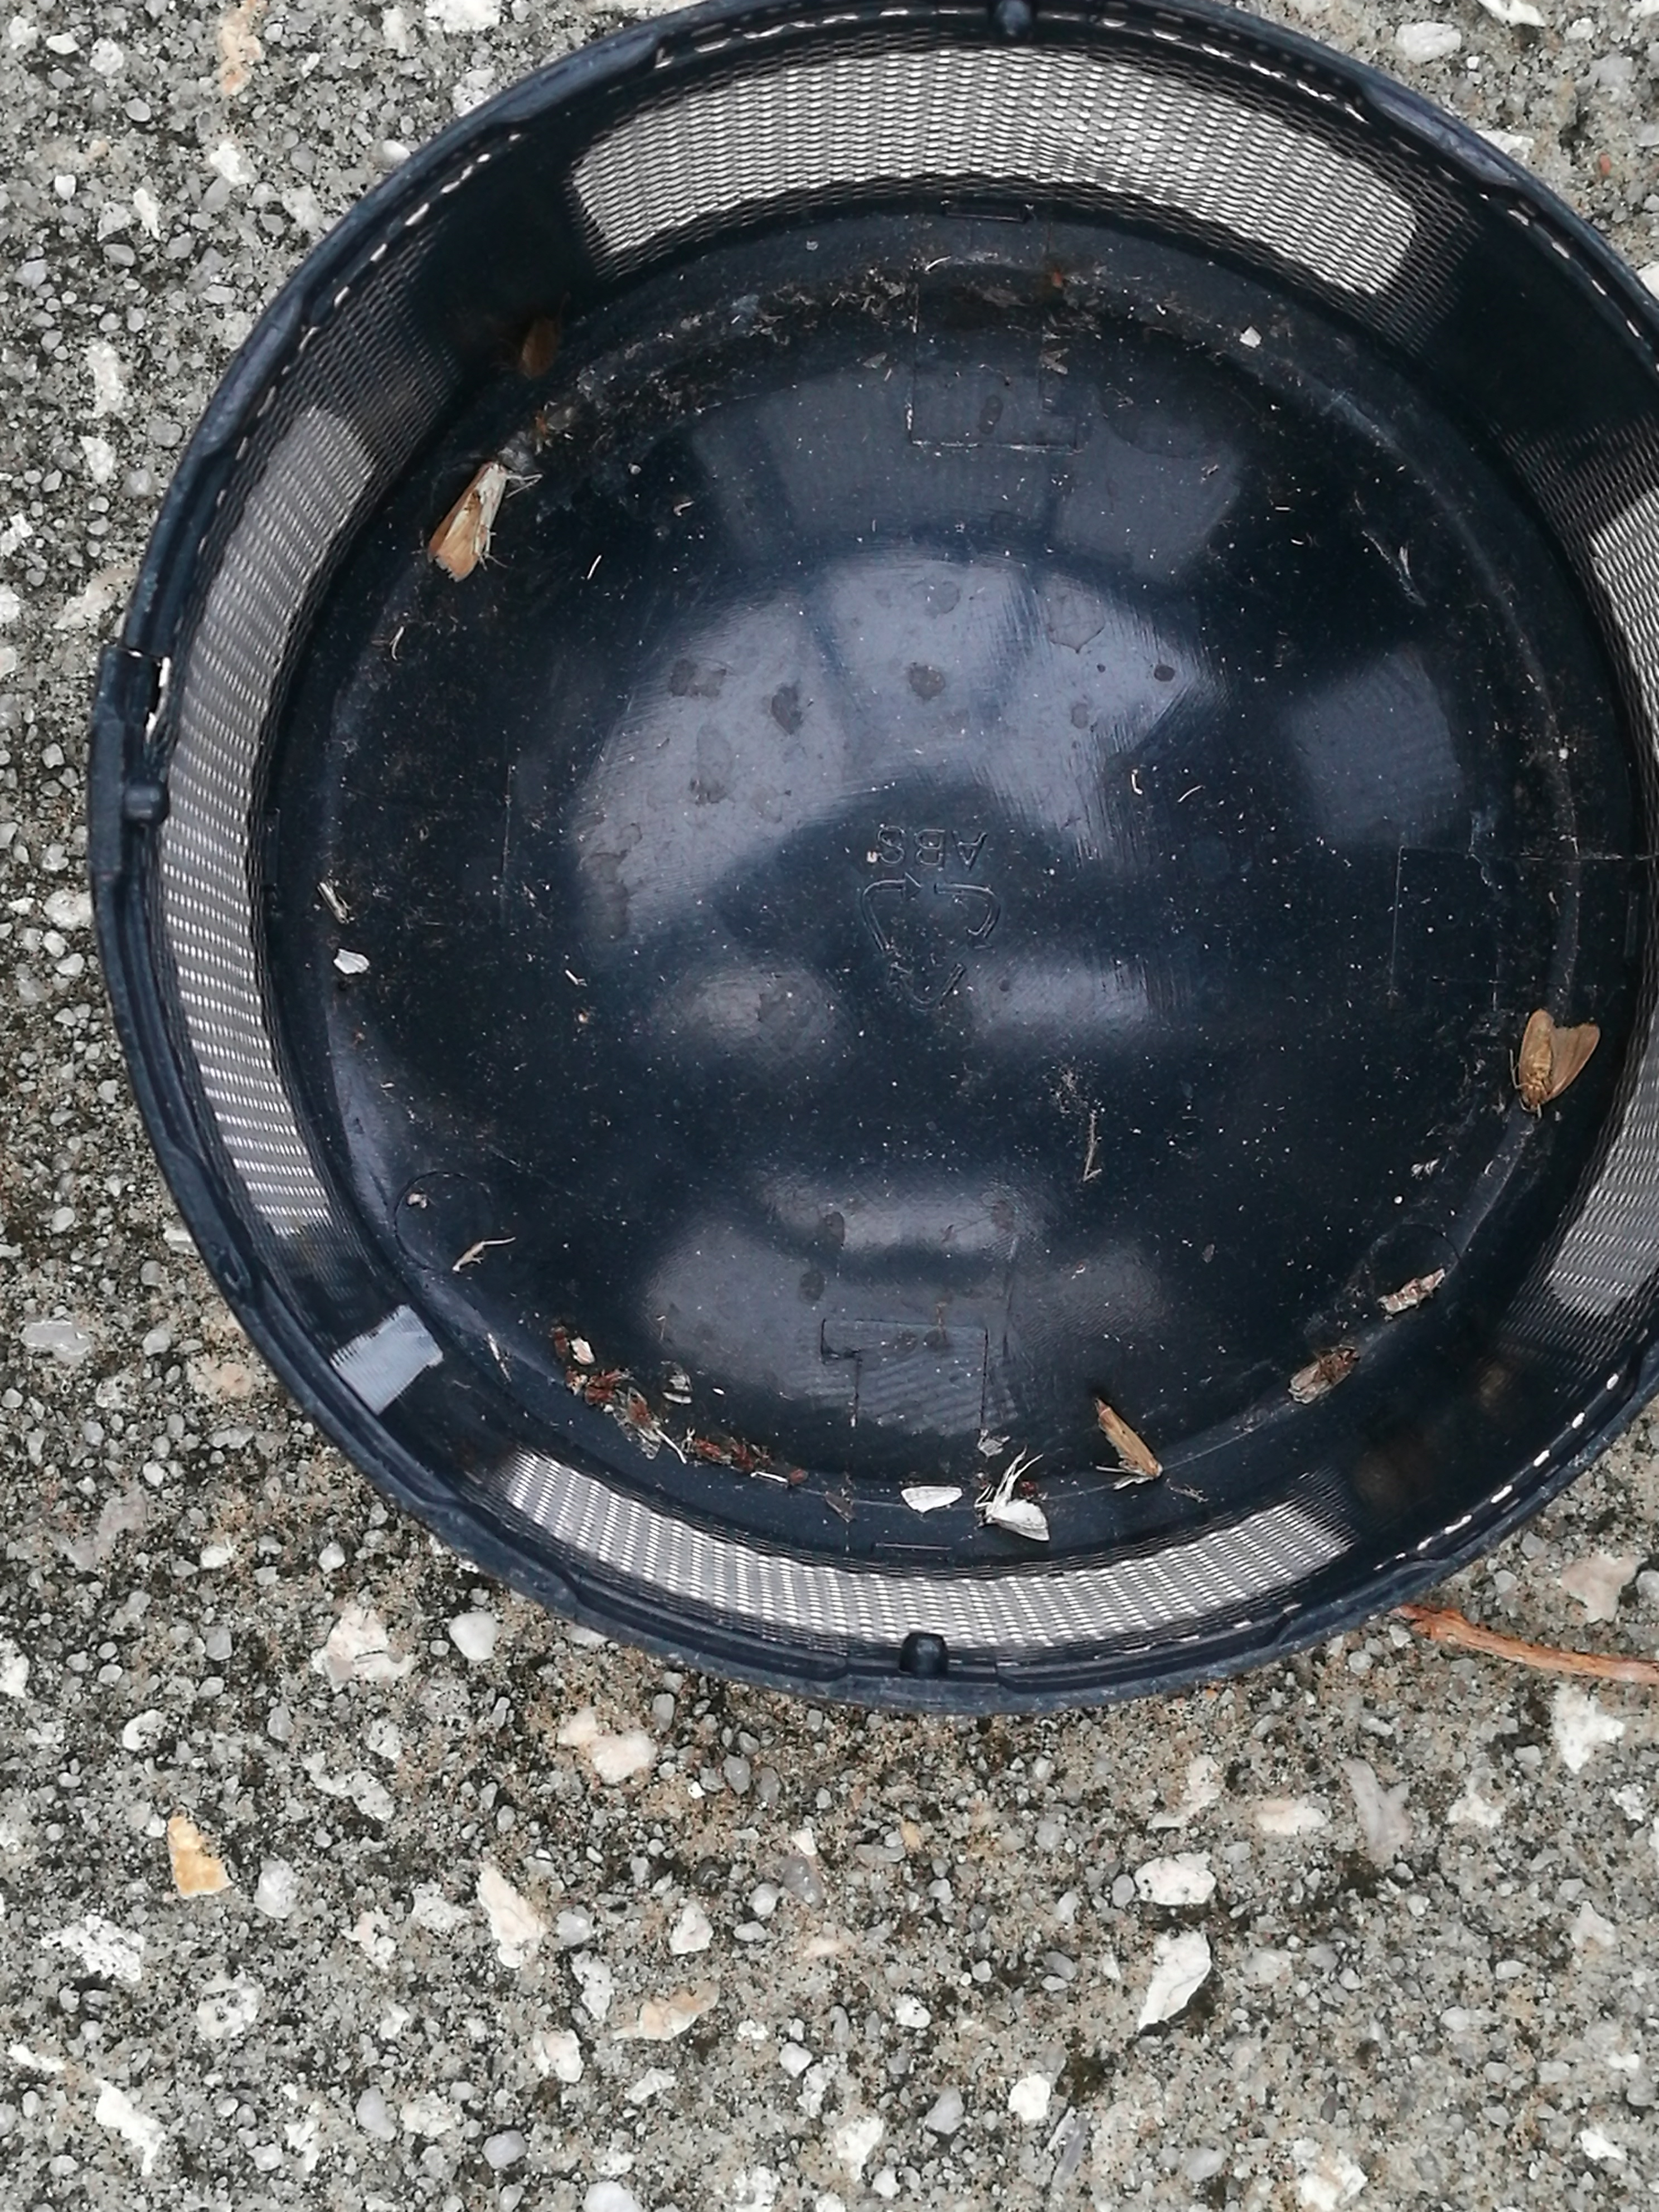mosquito: (430, 460, 505, 582), (1096, 1397, 1161, 1477), (1290, 1348, 1361, 1404)
moth: (1520, 1008, 1598, 1109), (983, 1501, 1051, 1541)
